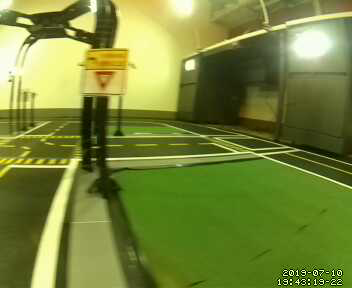Turn Yield: (82, 50, 131, 98)
